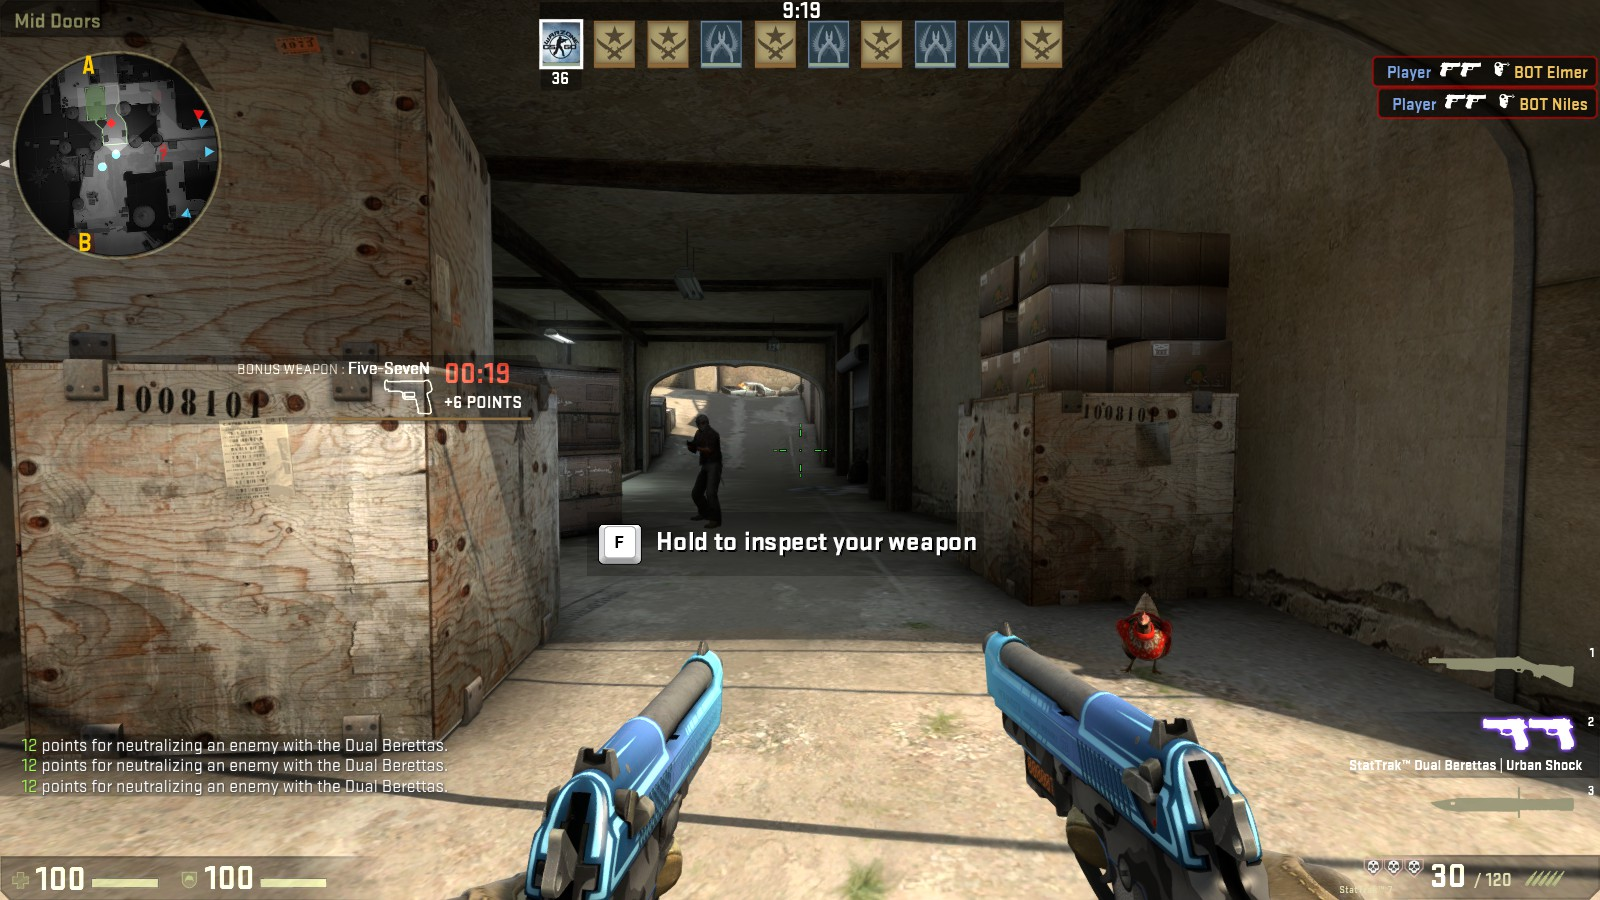t: (682, 414, 726, 530)
th: (690, 412, 712, 435)
